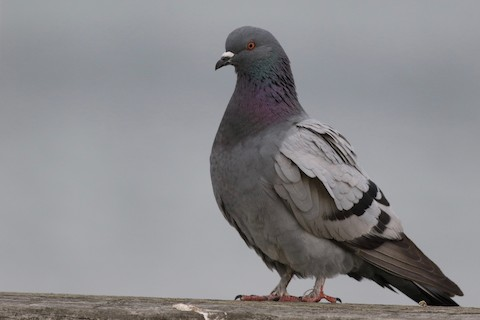pigeon: (201, 21, 467, 311)
